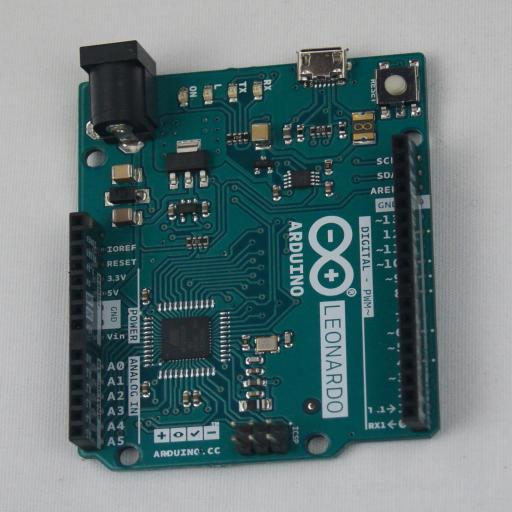Arduino Leonardo: (69, 41, 440, 469)
